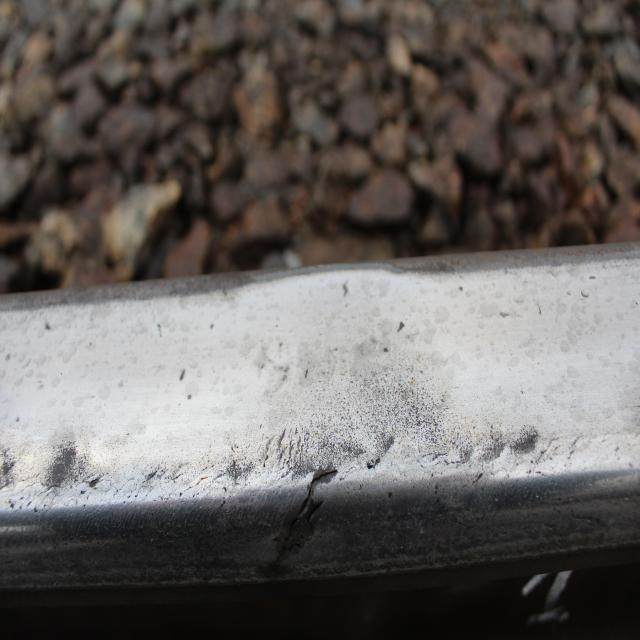broken_rail_medium: (250, 465, 342, 585), (370, 430, 400, 472), (86, 467, 108, 496)
